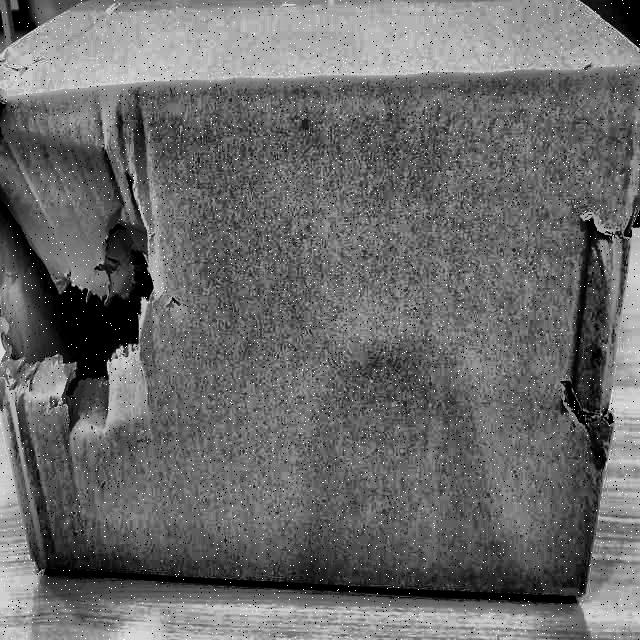box: (1, 0, 640, 621)
hole: (0, 143, 157, 423), (546, 213, 634, 431)
